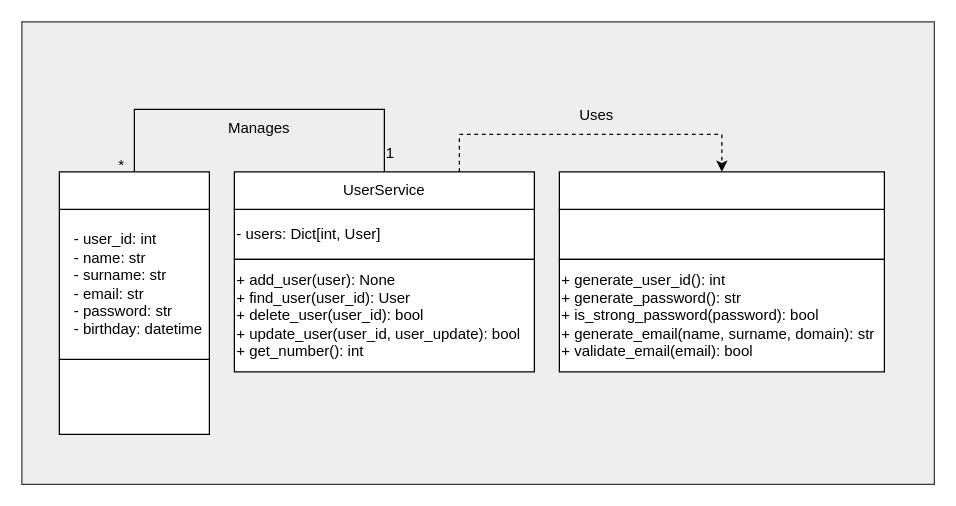
Image size: 956x506. Some labels were removed from this diagram. The shapes that lost their labels are listed below. From the top down, each one's centre as x and y in pixels, then its label:
point (133, 190): User
point (721, 190): UserUtil
point (133, 396): + __init__(...) + get_details(): str + get_age(): int
